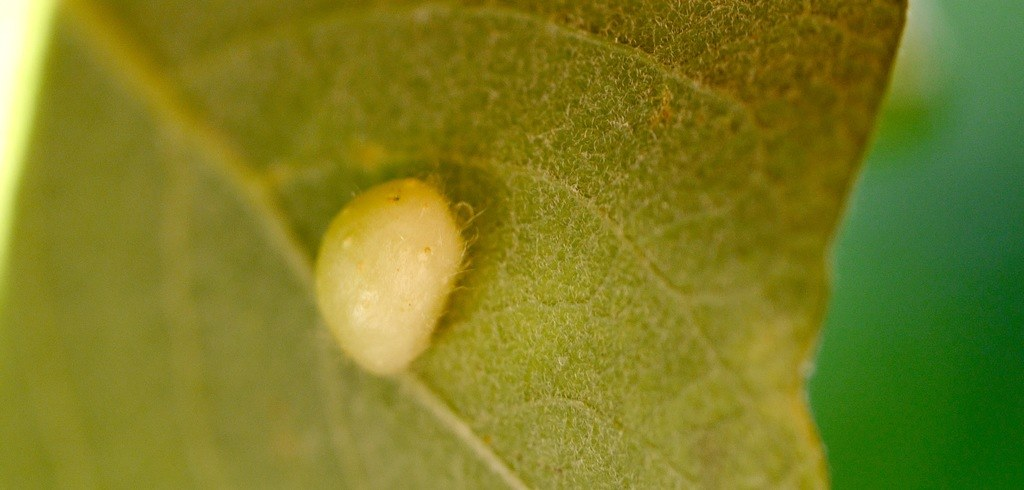insect: (311, 174, 486, 375)
